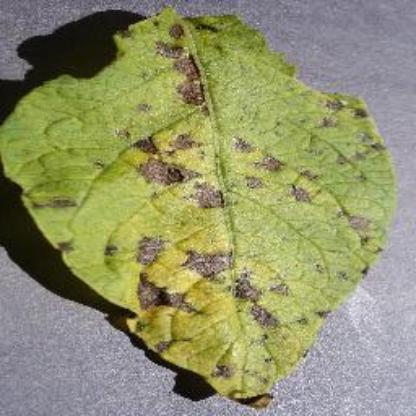Early-Blight: (1, 2, 400, 402)
